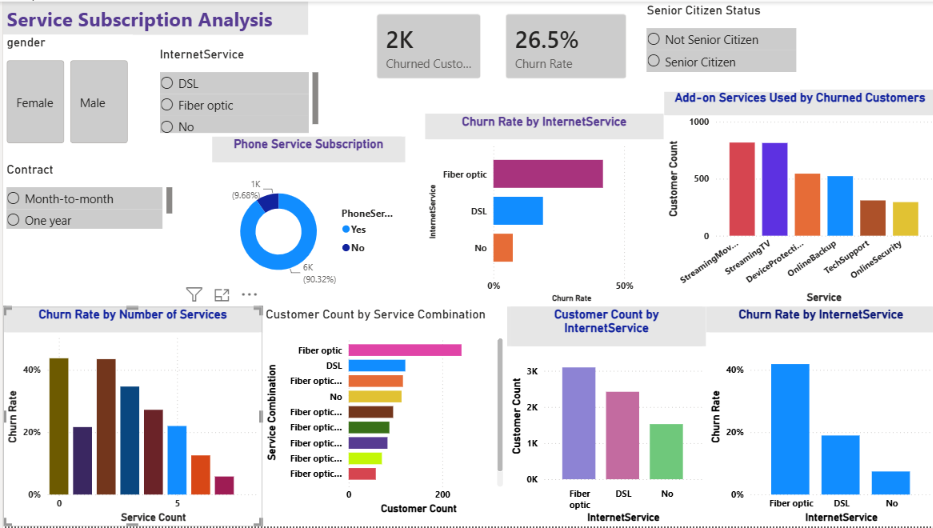

The page's visual inventory and layout, read from the dashboard file:
{"tool":"powerbi","page":{"name":"Service Subscription Analysis","canvas":[1280,720],"ordinal":1},"visuals":[{"type":"textbox","box":[0,0,418.6,45.8],"z":0},{"type":"donutChart","title":"Phone Service Subscription","fields":{"Category":["Telcom-Customer-Churn.PhoneService"],"Y":["Telcom-Customer-Churn.Customer Count"]},"box":[286.8,185.2,264.4,230.5],"z":1},{"type":"clusteredBarChart","fields":{"Category":["Telcom-Customer-Churn.InternetService"],"Y":["Telcom-Customer-Churn.Churn Rate"]},"box":[579.7,154.2,327.1,264.4],"z":2},{"type":"clusteredColumnChart","title":"Add-on Services Used by Churned Customers","fields":{"Category":["Telcom-Customer-Churn.Service"],"Y":["Telcom-Customer-Churn.Customer Count"]},"box":[906.8,120.3,372.9,298.3],"z":3},{"type":"clusteredColumnChart","title":"Churn Rate by Number of Services","fields":{"Category":["Telcom-Customer-Churn.Service Count"],"Y":["Telcom-Customer-Churn.Churn Rate"]},"box":[0,418.6,355.9,301.7],"z":4},{"type":"clusteredBarChart","fields":{"Category":["Telcom-Customer-Churn.Service Combination"],"Y":["Telcom-Customer-Churn.Customer Count"]},"box":[355.9,418.6,335.6,289.8],"z":5},{"type":"clusteredColumnChart","fields":{"Category":["Telcom-Customer-Churn.InternetService"],"Y":["Telcom-Customer-Churn.Customer Count"]},"box":[691.5,418.6,272.9,301.7],"z":6},{"type":"clusteredColumnChart","fields":{"Category":["Telcom-Customer-Churn.InternetService"],"Y":["Telcom-Customer-Churn.Churn Rate"]},"box":[964.4,418.6,315.3,301.7],"z":7},{"type":"advancedSlicerVisual","fields":{"Values":["Telcom-Customer-Churn.gender"]},"box":[0,45.8,178,154.2],"z":8},{"type":"listSlicer","fields":{"Values":["Telcom-Customer-Churn.Senior Citizen Status"]},"box":[878.2,1.4,215.3,122],"z":9},{"type":"listSlicer","fields":{"Values":["Telcom-Customer-Churn.InternetService"]},"box":[209.9,61.7,227.8,123.5],"z":10},{"type":"listSlicer","fields":{"Values":["Telcom-Customer-Churn.Contract"]},"box":[0,219.6,237.4,97.4],"z":11},{"type":"cardVisual","fields":{"Data":["Telcom-Customer-Churn.Churned Customers"]},"box":[494.9,0,178,123.7],"z":12},{"type":"cardVisual","fields":{"Data":["Telcom-Customer-Churn.Churn Rate"]},"box":[672.9,0,200,123.7],"z":13}]}

Visuals, with their boxes in screenshot pixels (x1, y1, x2, y2), scaled from the page's 1280x720 canvas onto the 933x528 screenshot:
textbox: (x1=0, y1=0, x2=305, y2=34)
"Phone Service Subscription" donutChart: (x1=209, y1=136, x2=402, y2=305)
clusteredBarChart - Telcom-Customer-Churn.InternetService x Telcom-Customer-Churn.Churn Rate: (x1=423, y1=113, x2=661, y2=307)
"Add-on Services Used by Churned Customers" clusteredColumnChart: (x1=661, y1=88, x2=932, y2=307)
"Churn Rate by Number of Services" clusteredColumnChart: (x1=0, y1=307, x2=259, y2=527)
clusteredBarChart - Telcom-Customer-Churn.Service Combination x Telcom-Customer-Churn.Customer Count: (x1=259, y1=307, x2=504, y2=519)
clusteredColumnChart - Telcom-Customer-Churn.InternetService x Telcom-Customer-Churn.Customer Count: (x1=504, y1=307, x2=703, y2=527)
clusteredColumnChart - Telcom-Customer-Churn.InternetService x Telcom-Customer-Churn.Churn Rate: (x1=703, y1=307, x2=932, y2=527)
advancedSlicerVisual - Telcom-Customer-Churn.gender: (x1=0, y1=34, x2=130, y2=147)
listSlicer - Telcom-Customer-Churn.Senior Citizen Status: (x1=640, y1=1, x2=797, y2=90)
listSlicer - Telcom-Customer-Churn.InternetService: (x1=153, y1=45, x2=319, y2=136)
listSlicer - Telcom-Customer-Churn.Contract: (x1=0, y1=161, x2=173, y2=232)
cardVisual - Telcom-Customer-Churn.Churned Customers: (x1=361, y1=0, x2=490, y2=91)
cardVisual - Telcom-Customer-Churn.Churn Rate: (x1=490, y1=0, x2=636, y2=91)
